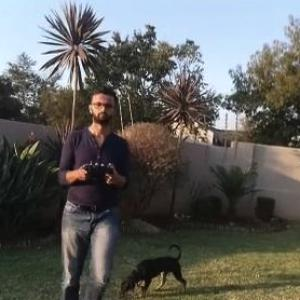follow: (54, 83, 132, 299)
null: (115, 239, 188, 299)
